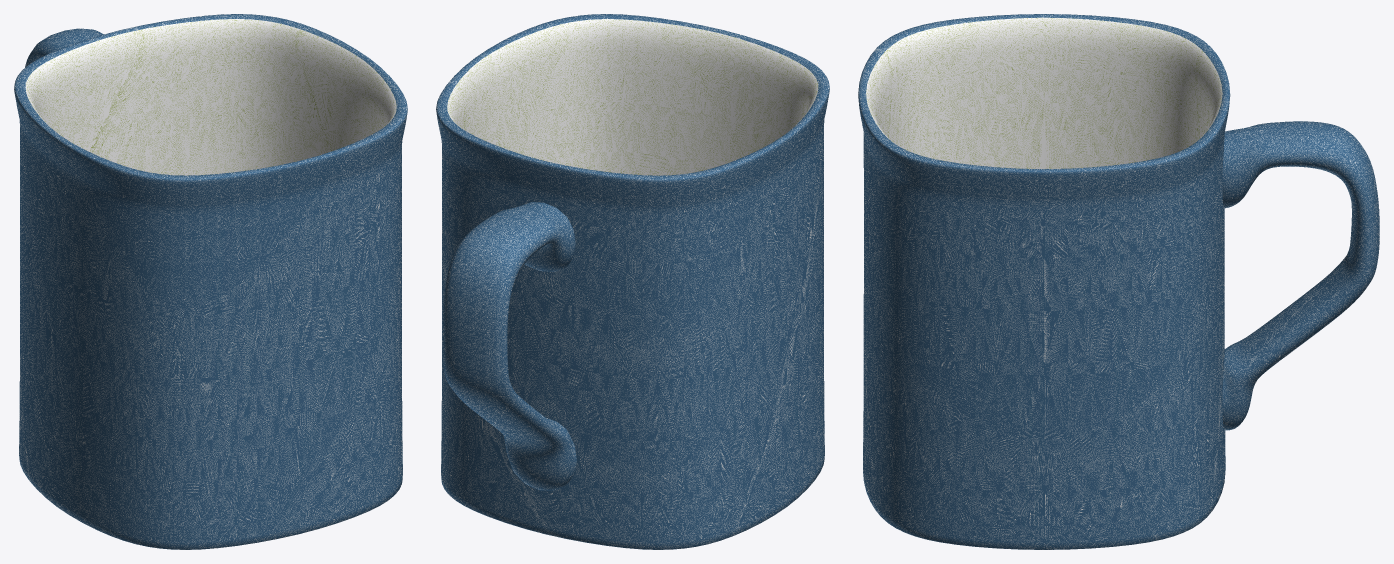
3 views of the same model, side by side, from view 1: azimuth 30°, elevation 25°; view 2: azimuth 150°, elevation 25°; view 3: azimuth 270°, elevation 25° (orthographic). The views are drawn at different scales.
Visible parts, largest first — view 1: mesh1_mesh1-geometry, mesh2_mesh2-geometry; view 2: mesh1_mesh1-geometry, mesh2_mesh2-geometry; view 3: mesh1_mesh1-geometry, mesh2_mesh2-geometry.
Part boxes in pixels (x1,y1,x2,y2): mesh1_mesh1-geometry: [14, 14, 407, 549]; mesh2_mesh2-geometry: [25, 28, 103, 67]; mesh1_mesh1-geometry: [436, 14, 829, 549]; mesh2_mesh2-geometry: [442, 202, 576, 490]; mesh1_mesh1-geometry: [858, 14, 1230, 549]; mesh2_mesh2-geometry: [1222, 121, 1379, 430].
Bounding box in the file's own units: 0.4869 × 0.55 × 0.6786.
